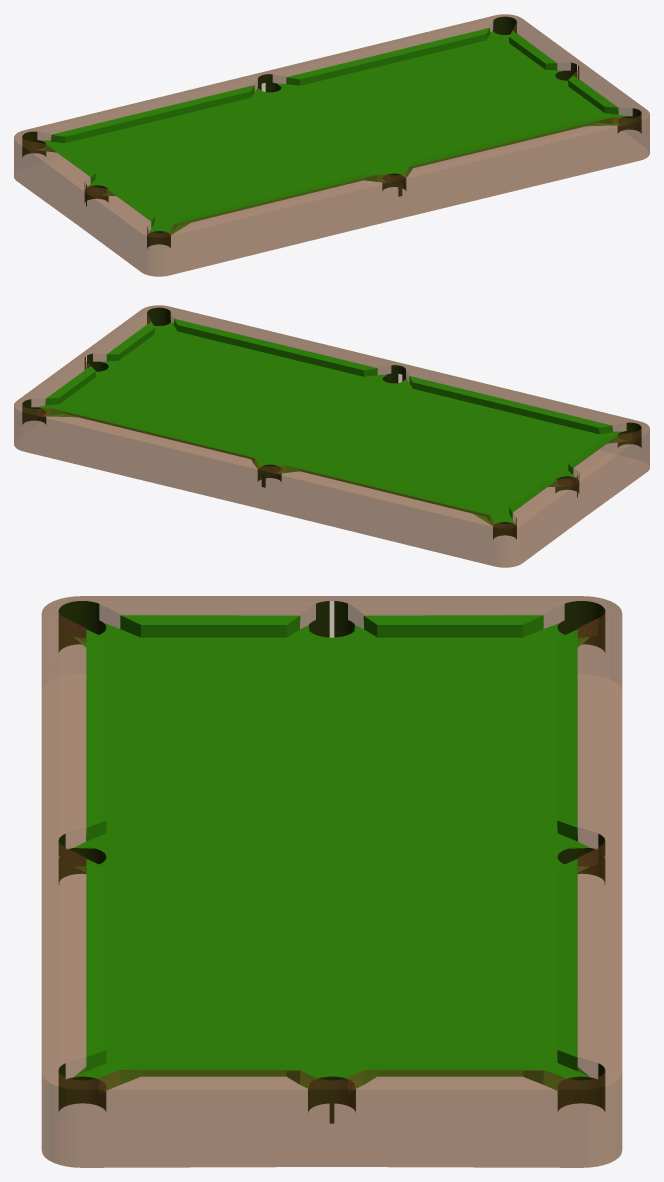
The model's file is Billiard_Board.fbx.
3 views of the same model, one above another, from view 1: azimuth 30°, elevation 25°; view 2: azimuth 150°, elevation 25°; view 3: azimuth 270°, elevation 25° (orthographic). The views are drawn at different scales.
Visible parts, largest first — view 1: base; view 2: base; view 3: base.
Boxes of the visible parts, left/top/right/bottom form: base: left=14, top=14, right=649, bottom=276; base: left=14, top=305, right=649, bottom=567; base: left=41, top=596, right=622, bottom=1167.
Size of the model in its own units: 6363 by 484 by 3162.
